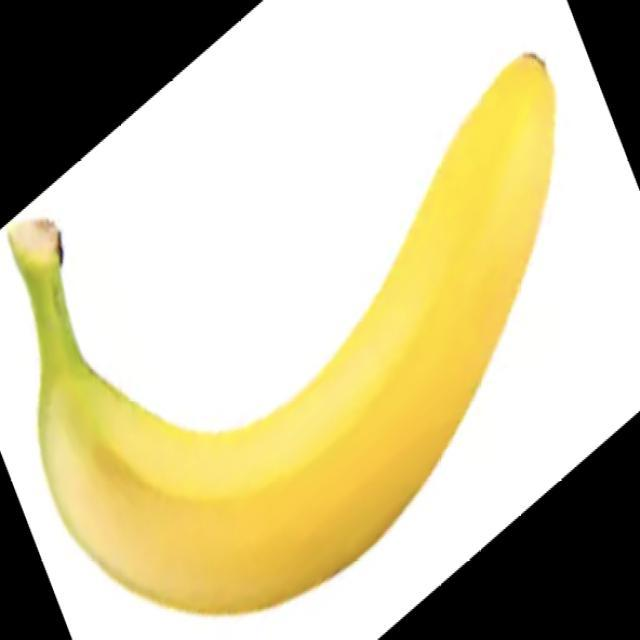Banana: (6, 50, 557, 616)
